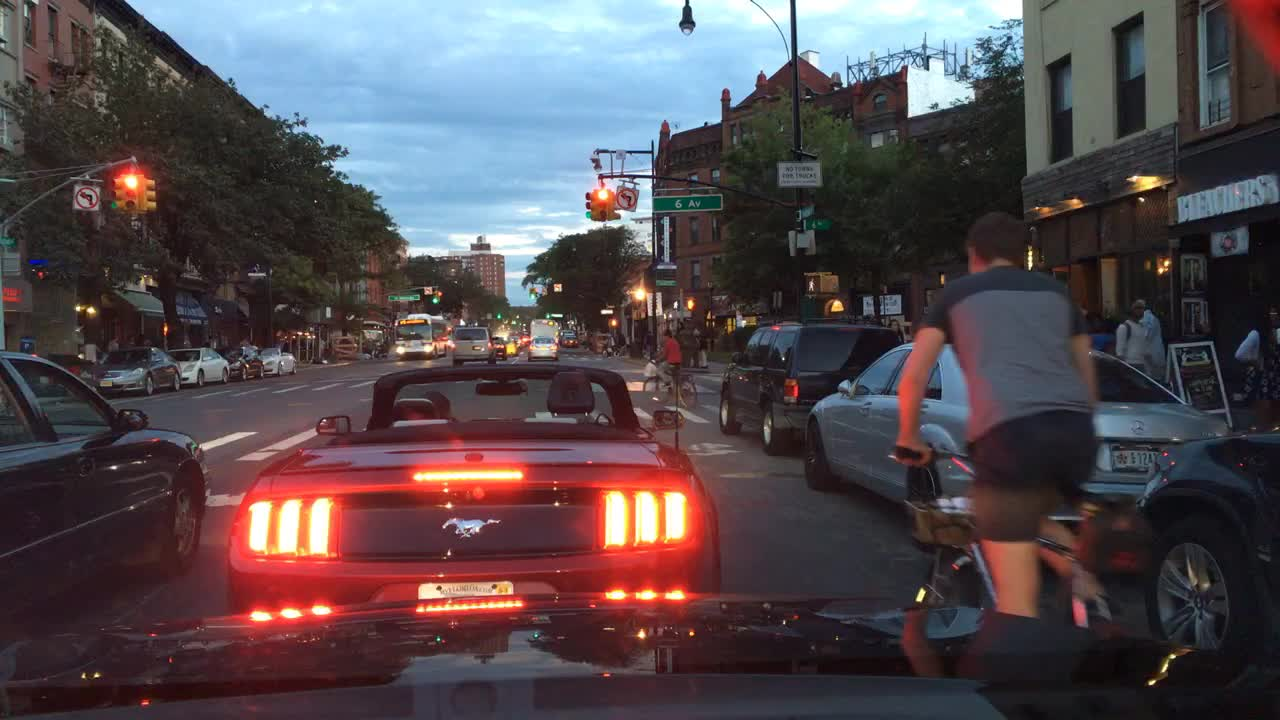bike: (889, 434, 1137, 632), (640, 358, 697, 405)
bus: (392, 313, 453, 358), (532, 319, 559, 341)
car: (225, 359, 722, 629), (802, 338, 1226, 568), (0, 347, 211, 624), (1132, 423, 1277, 677), (716, 318, 903, 457), (92, 348, 181, 395), (169, 346, 231, 386), (451, 324, 491, 363), (219, 348, 263, 380), (258, 350, 297, 375), (528, 336, 559, 360), (491, 334, 506, 360), (560, 331, 579, 348), (510, 334, 527, 348), (505, 339, 517, 353)
motor: (600, 339, 627, 359), (366, 337, 387, 359)
person: (1125, 297, 1167, 384), (1113, 307, 1147, 381), (697, 334, 710, 369)
rider: (895, 212, 1126, 629), (646, 327, 684, 387)
traffic light: (803, 270, 840, 297), (122, 175, 141, 215), (106, 177, 120, 212), (597, 187, 611, 222), (146, 178, 157, 214), (582, 193, 590, 220), (527, 282, 535, 308), (683, 295, 695, 310), (431, 286, 441, 303), (606, 317, 621, 325), (671, 297, 679, 310)
traffic sign: (775, 158, 822, 188), (649, 193, 726, 210), (654, 214, 678, 267), (785, 227, 817, 257), (72, 185, 102, 210), (614, 185, 639, 212), (245, 254, 268, 277), (0, 251, 20, 276), (644, 292, 663, 316), (802, 217, 832, 230), (386, 292, 421, 303), (654, 277, 679, 287), (770, 289, 783, 308), (0, 235, 20, 246), (795, 205, 817, 214), (550, 282, 564, 294), (421, 284, 433, 297), (597, 309, 616, 316)
